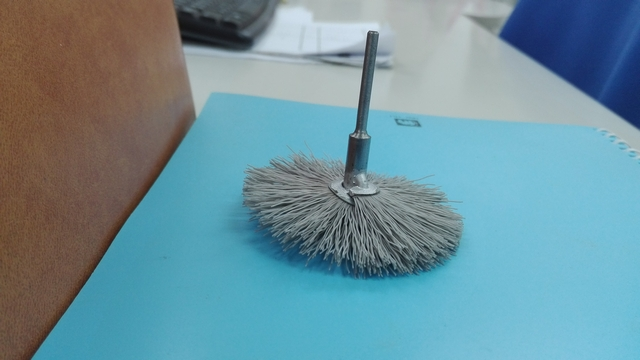TOOL: (195, 29, 488, 294), (231, 93, 468, 301)
